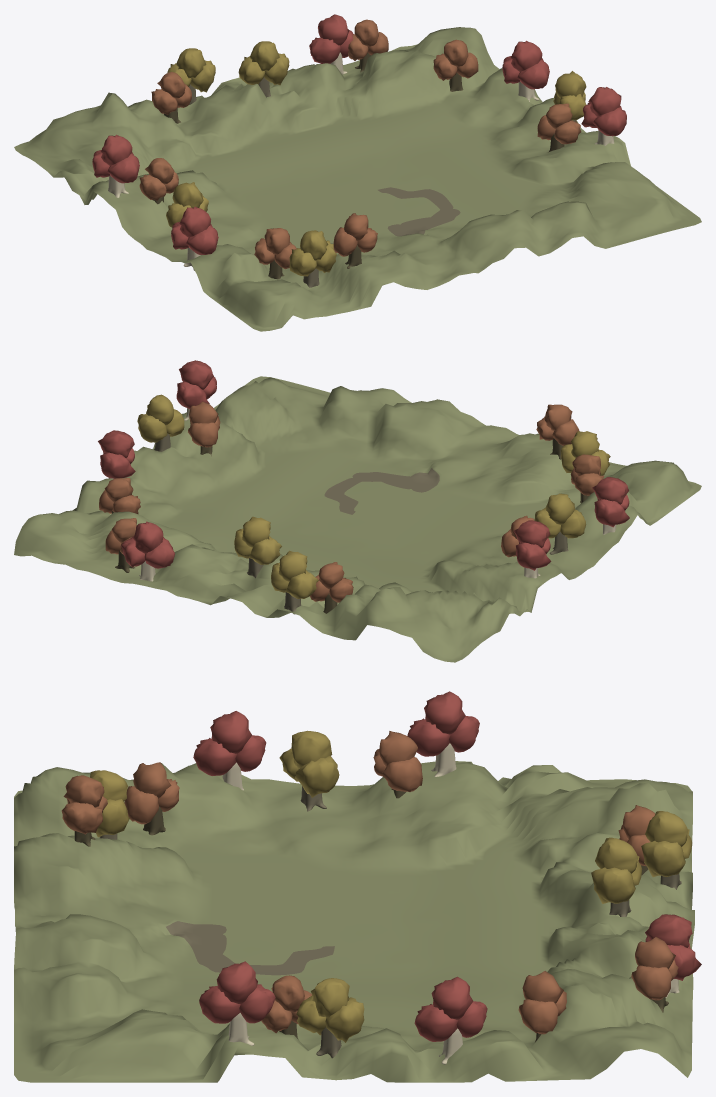
Rendered from Ground.fbx.
3 renders of one model, top to bottom at view 1: azimuth 30°, elevation 25°; view 2: azimuth 150°, elevation 25°; view 3: azimuth 270°, elevation 25°, orthographic. The views are drawn at different scales.
Parts seen in each view (by area): view 1: Ground, TreeA3, TreeA1, TreeA5, TreeA2, TreeB5, TreeB1, TreeA4, TreeC6, TreeC2, TreeC7, TreeB4 (+6 smaller); view 2: Ground, TreeA4, TreeB4, TreeB2, TreeB1, TreeB3, TreeA3, TreeA5, TreeA2, TreeA1, TreeC6, TreeC1 (+6 smaller); view 3: Ground, TreeA2, TreeA3, TreeA1, TreeA5, TreeB3, TreeB2, TreeB1, TreeB4, TreeC5, TreeC4, TreeC6 (+6 smaller).
Part boxes in pixels (<box>): Ground: <box>14,27,701,331</box>; TreeA3: <box>92,134,139,197</box>; TreeA1: <box>502,40,549,101</box>; TreeA5: <box>171,206,218,270</box>; TreeA2: <box>581,87,626,145</box>; TreeB5: <box>289,230,336,287</box>; TreeB1: <box>238,41,289,97</box>; TreeA4: <box>309,14,353,74</box>; TreeC6: <box>333,213,377,268</box>; TreeC2: <box>433,39,478,91</box>; TreeC7: <box>537,103,581,152</box>; TreeB4: <box>167,48,215,104</box>; Ground: <box>14,376,701,662</box>; TreeA4: <box>121,521,174,581</box>; TreeB4: <box>271,550,318,614</box>; TreeB2: <box>534,493,586,554</box>; TreeB1: <box>234,516,281,578</box>; TreeB3: <box>137,394,184,451</box>; TreeA3: <box>513,520,551,578</box>; TreeA5: <box>592,477,629,534</box>; TreeA2: <box>176,360,216,420</box>; TreeA1: <box>98,430,135,479</box>; TreeC6: <box>536,404,579,459</box>; TreeC1: <box>309,562,353,613</box>; Ground: <box>14,761,694,1082</box>; TreeA2: <box>199,961,275,1045</box>; TreeA3: <box>407,691,479,776</box>; TreeA1: <box>414,976,487,1064</box>; TreeA5: <box>193,711,266,790</box>; TreeB3: <box>296,978,364,1058</box>; TreeB2: <box>279,730,339,811</box>; TreeB1: <box>591,837,642,916</box>; TreeB4: <box>641,811,692,889</box>; TreeC5: <box>124,762,179,835</box>; TreeC4: <box>373,731,422,798</box>; TreeC6: <box>61,775,107,846</box>.
Size of the model in its own units: 155 by 26.55 by 150.
